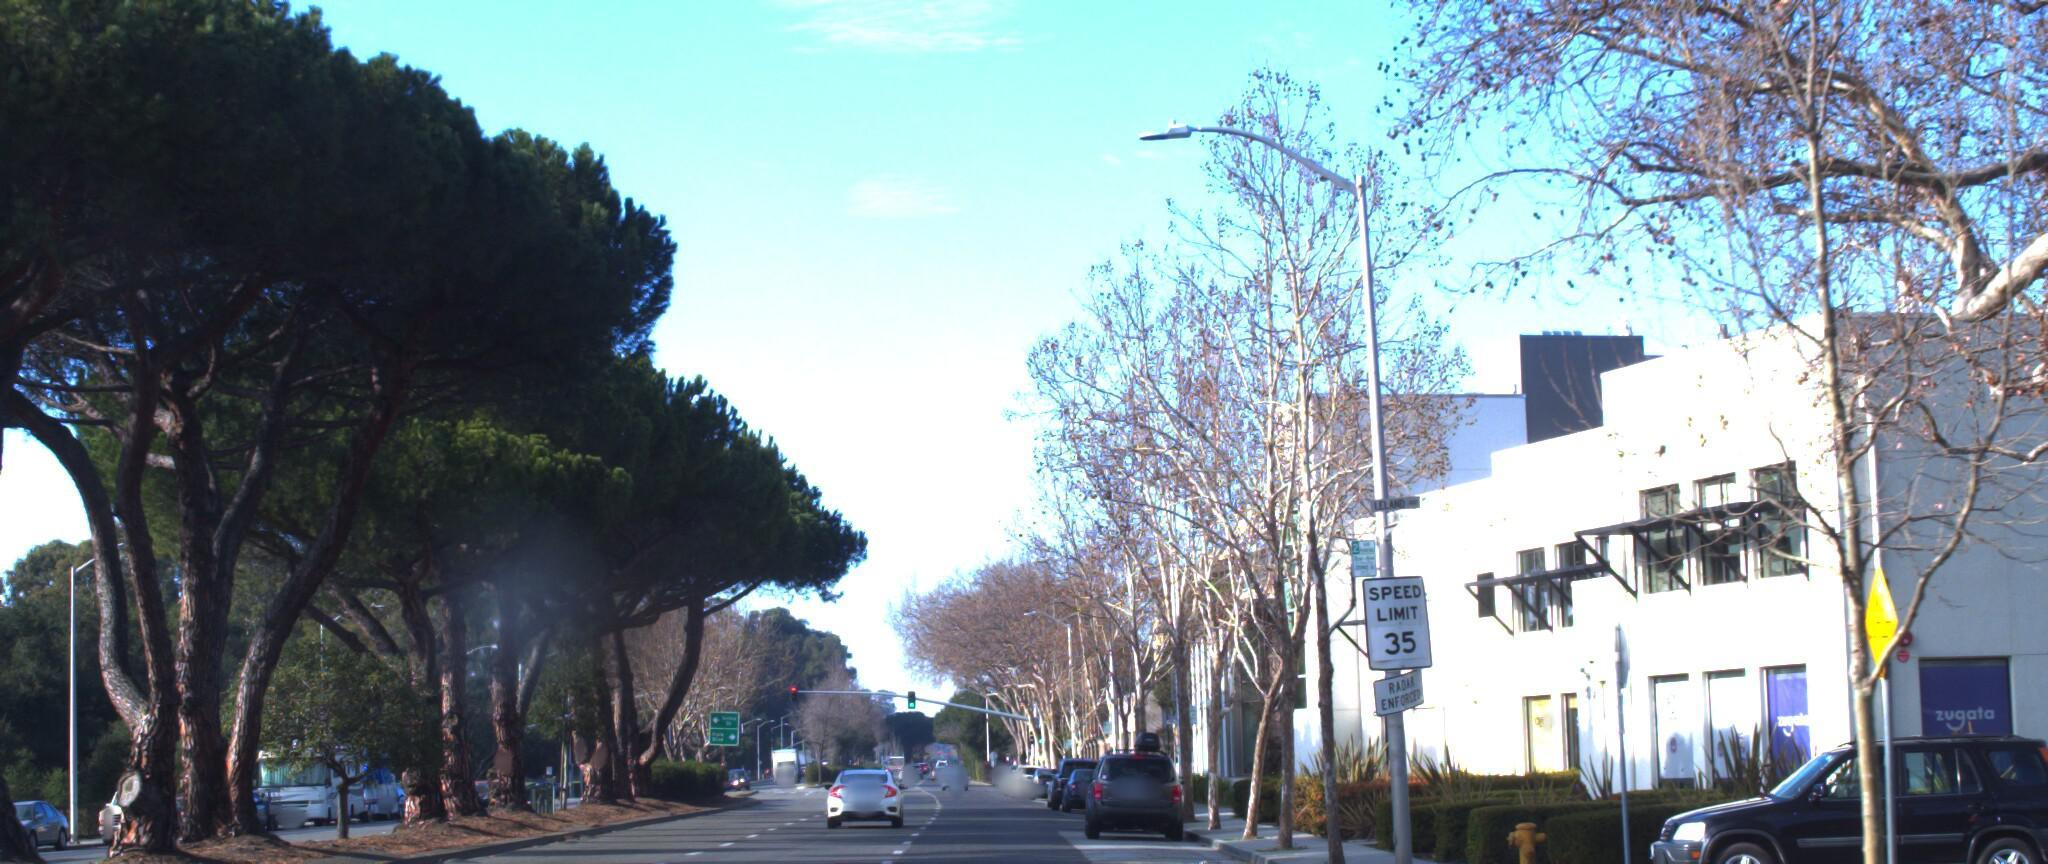car: (1573, 717, 2048, 864), (1930, 531, 2048, 864), (1074, 713, 1183, 830), (825, 748, 916, 814)
